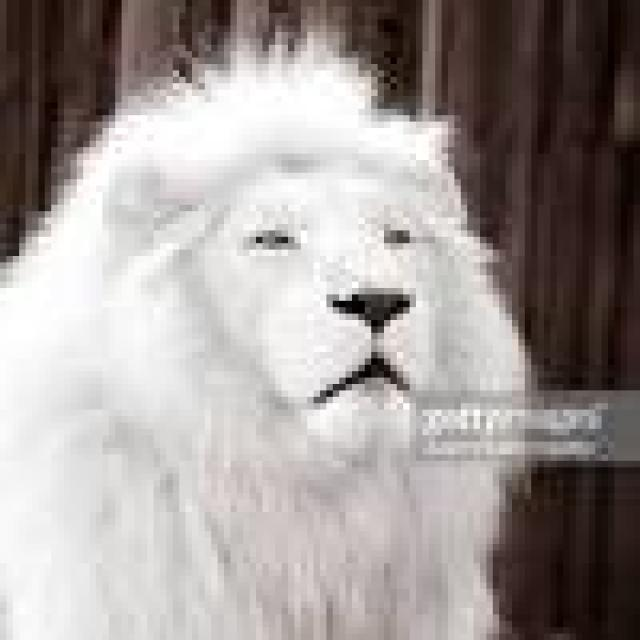Lion: (4, 51, 536, 634)
